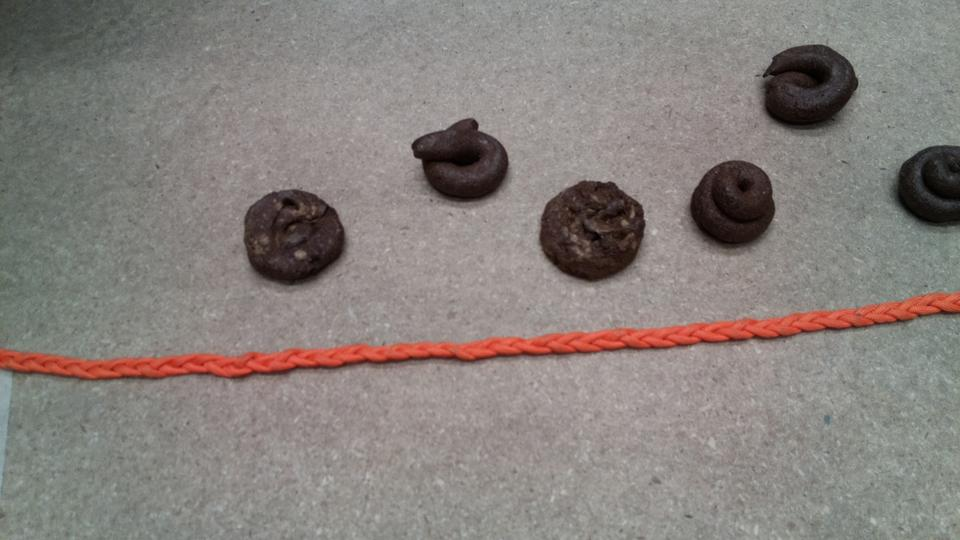poop: (235, 182, 352, 288), (536, 177, 652, 278), (757, 39, 865, 135), (684, 153, 781, 250), (415, 112, 511, 206), (891, 142, 960, 229)
rope: (2, 328, 717, 384), (663, 290, 960, 351)
